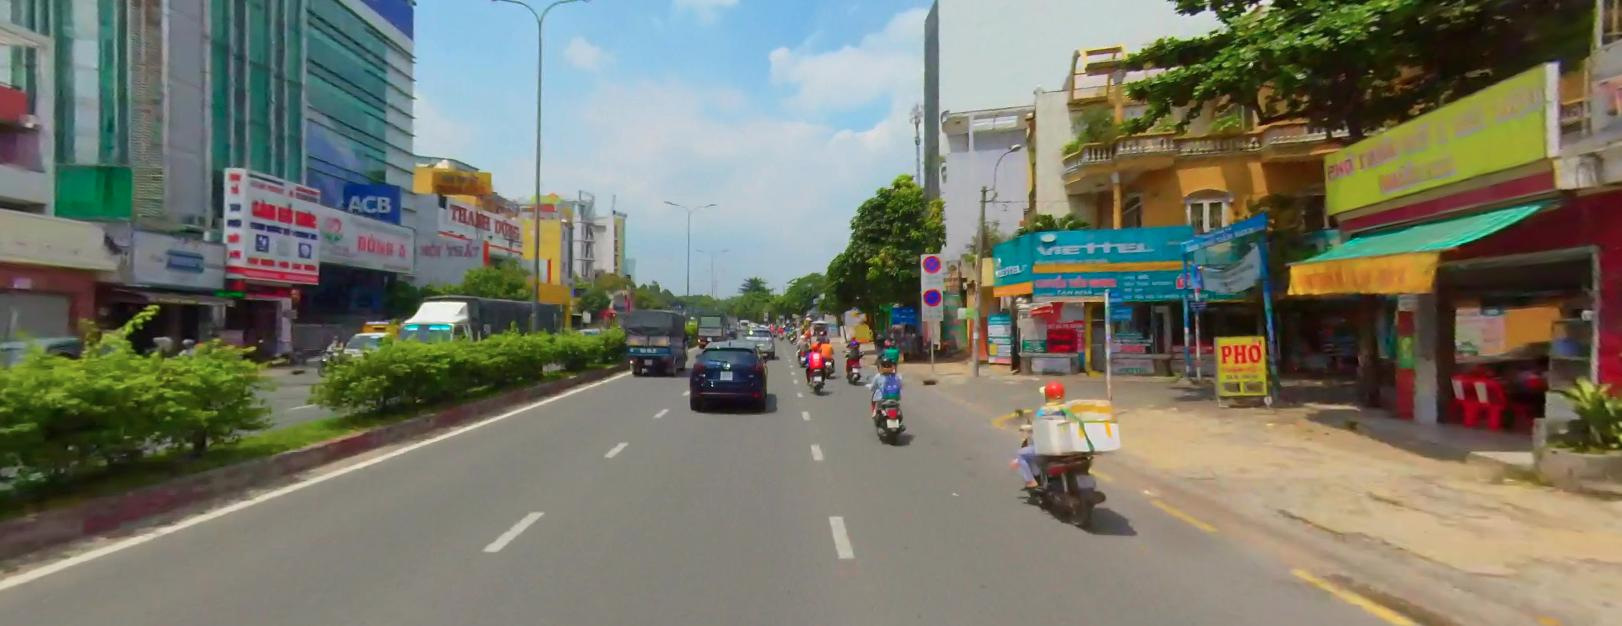Cam dung va do: (922, 254, 941, 271), (923, 287, 941, 304)
